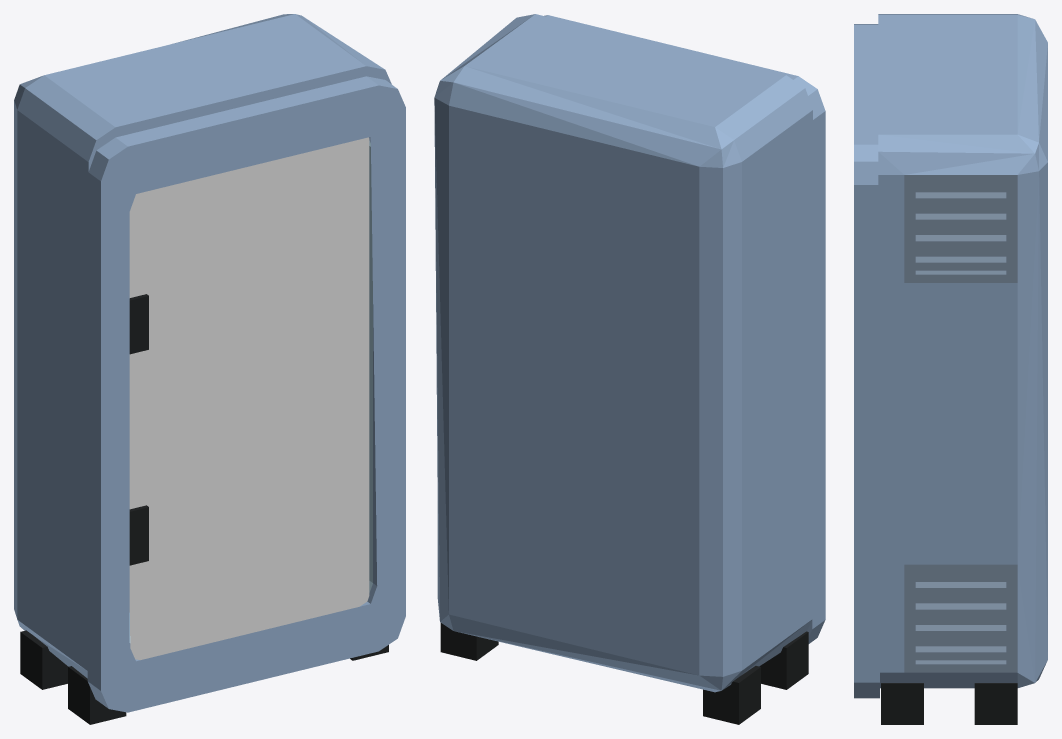
Rendered from nevera.glb.
3 views of the same model, side by side, from view 1: azimuth 30°, elevation 25°; view 2: azimuth 150°, elevation 25°; view 3: azimuth 270°, elevation 25° (orthographic). The views are drawn at different scales.
Parts seen in each view (by area): view 1: Environment_CanFridge; view 2: Environment_CanFridge; view 3: Environment_CanFridge.
Boxes of the visible parts, box(x1,y1,x2,y2) form: Environment_CanFridge: box(14, 14, 405, 724); Environment_CanFridge: box(434, 14, 825, 724); Environment_CanFridge: box(854, 14, 1047, 724).
Bounding box in the file's own units: 0.5382 × 1 × 0.3036.
Materials: 2 (1 with a texture image).
